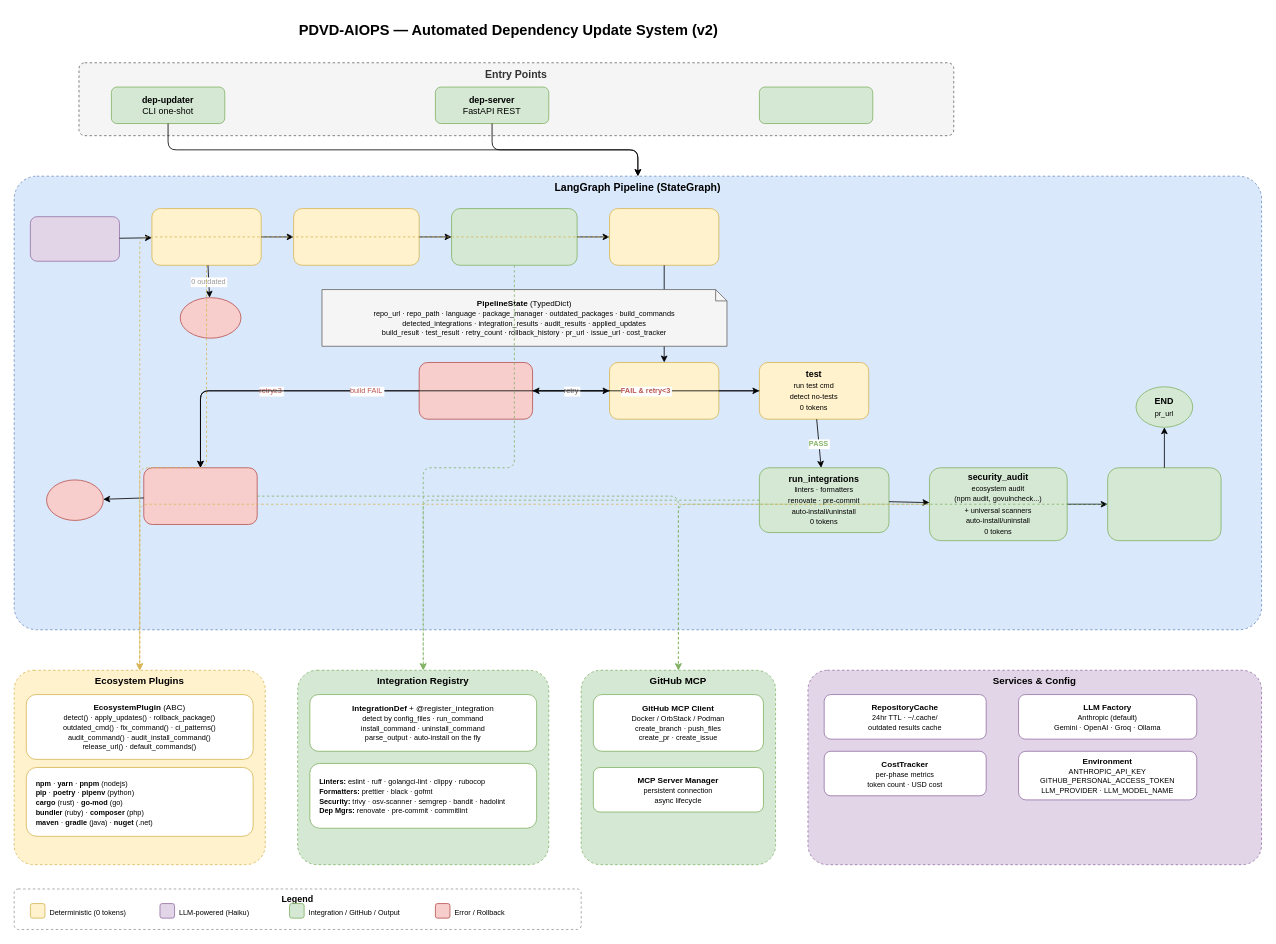
Image size: 1276x944. Some labels were removed from this diagram. The centre of each missing label's shape, as x and y in pixels:
"analyze clone · detect eco check outdated 0 tokens" goes at [206,236].
"build run build cmd fix_command() 0 tokens" goes at [664,390].
"create_issue logs · rollback hx MCP issue 0 tokens" goes at [200,495].
"create_pr branch · push MCP PR recommendations release URLs 0 tokens" goes at [1164,504].
"dep-diagnose MCP diagnostics" goes at [816,105].
"detect_commands CI parse → pkg.json → Haiku LLM → defaults 0–100 tokens" goes at [356,236].
"detect_integrations scan config files registry-driven 0 tokens" goes at [514,236].
"END issue_url" goes at [74,499].
"END up_to_date" goes at [210,317].
"orchestrator route task 0 tokens" goes at [74,238].
"prepare file edit or cmd (plugin-driven) 0 tokens" goes at [664,236].
"rollback heuristic → Haiku identify pkg 0–50 tokens" goes at [475,390].
